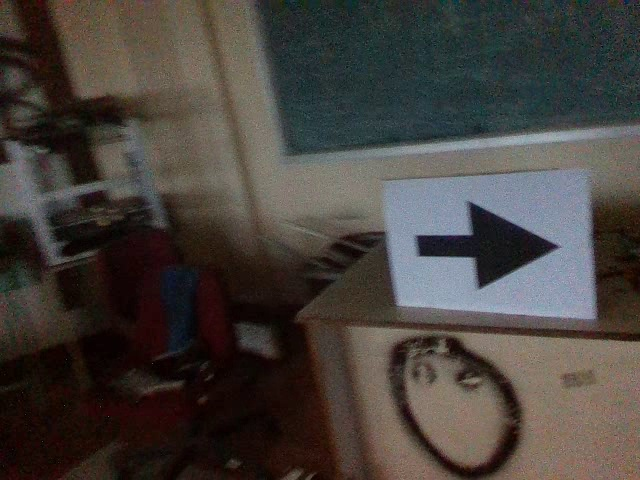Right: (407, 196, 564, 297)
